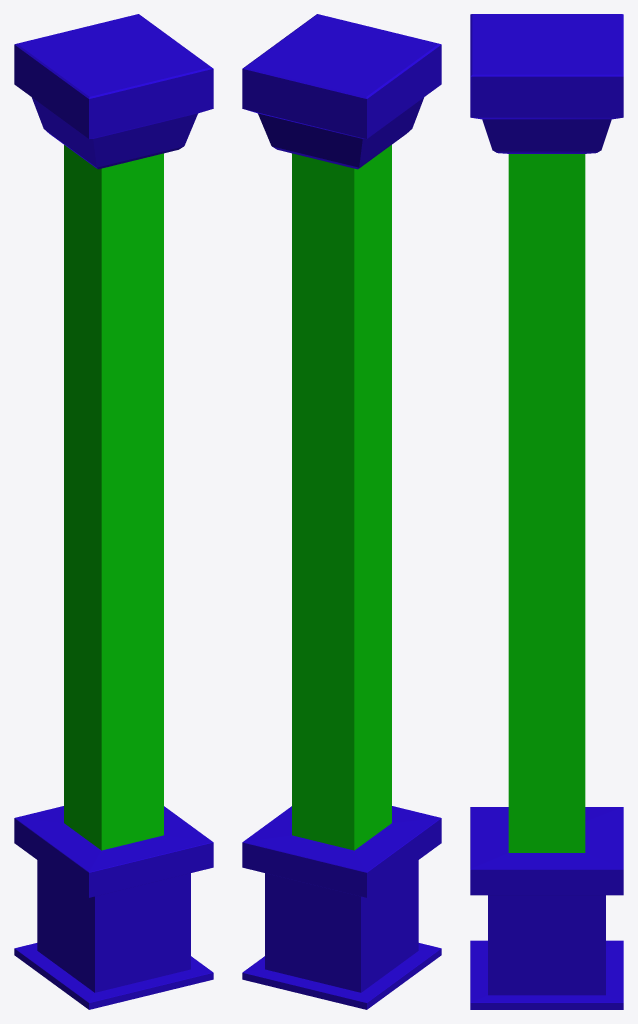
The model's file is C_ShortPillar.fbx.
3 views of the same model, side by side, from view 1: azimuth 30°, elevation 25°; view 2: azimuth 150°, elevation 25°; view 3: azimuth 270°, elevation 25° (orthographic). The views are drawn at different scales.
Visible parts, largest first — view 1: C_ShortPillar; view 2: C_ShortPillar; view 3: C_ShortPillar.
Part boxes in pixels (x1,y1,x2,y2): C_ShortPillar: (14, 14, 213, 1009); C_ShortPillar: (242, 14, 441, 1009); C_ShortPillar: (470, 14, 623, 1009).
Bounding box in the file's own units: 27.65 × 193 × 28.7.
